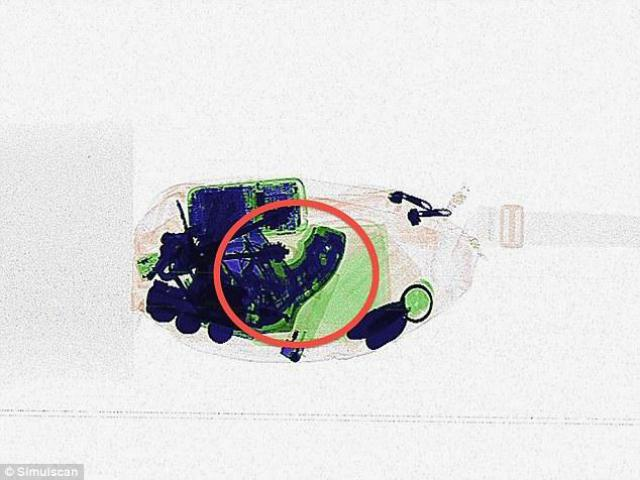Gun: (192, 212, 346, 334)
